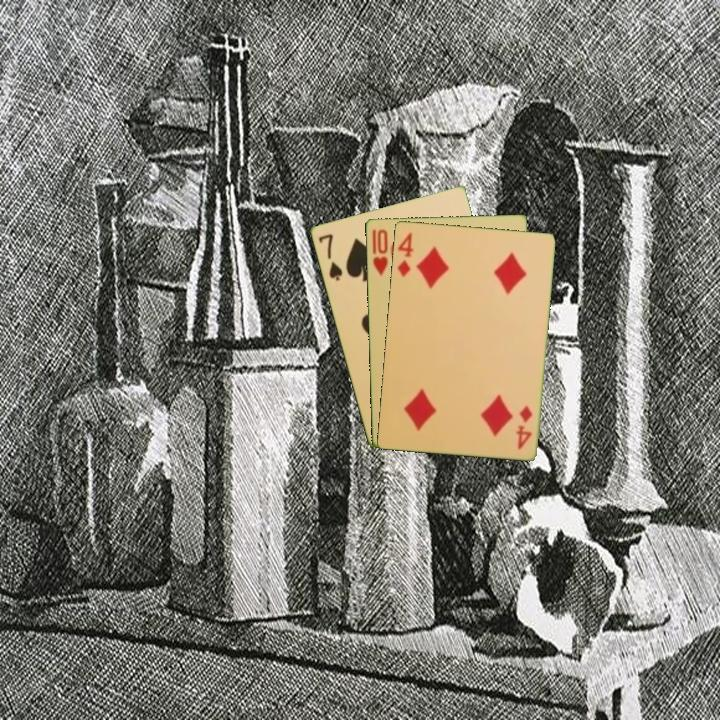10h: (369, 226, 390, 279)
4d: (393, 229, 416, 279), (513, 401, 535, 452)
7s: (315, 230, 345, 284)
